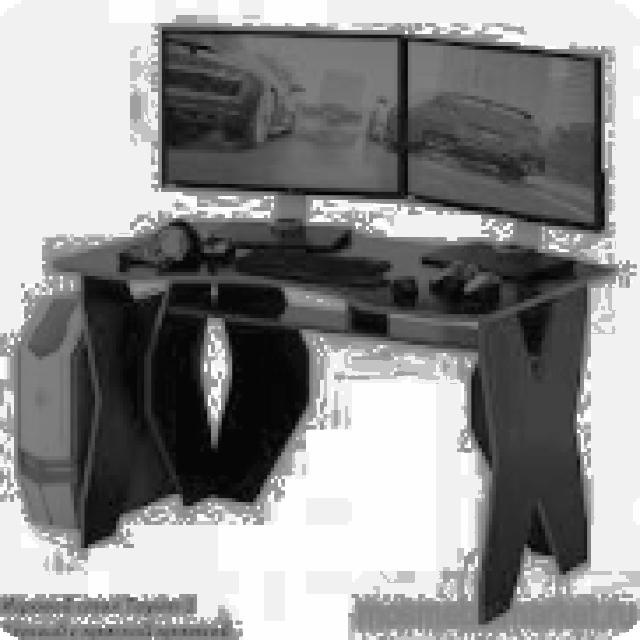table: (49, 214, 616, 620)
